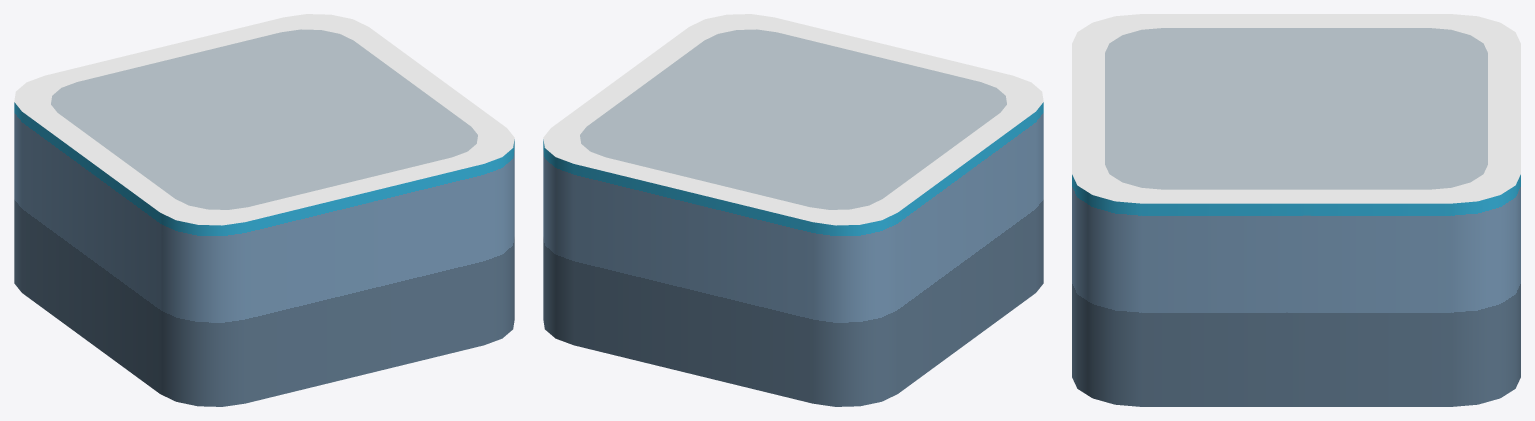
The model's file is TileFace0000Corner____.fbx.
3 views of the same model, side by side, from view 1: azimuth 30°, elevation 25°; view 2: azimuth 150°, elevation 25°; view 3: azimuth 270°, elevation 25° (orthographic). The views are drawn at different scales.
Parts seen in each view (by area): view 1: Face0000Corner____v1; view 2: Face0000Corner____v1; view 3: Face0000Corner____v1.
Boxes of the visible parts, x1=… form: Face0000Corner____v1: x1=14, y1=14, x2=514, y2=406; Face0000Corner____v1: x1=543, y1=14, x2=1043, y2=406; Face0000Corner____v1: x1=1072, y1=14, x2=1520, y2=406.
Size of the model in its own units: 100 by 50 by 100.
